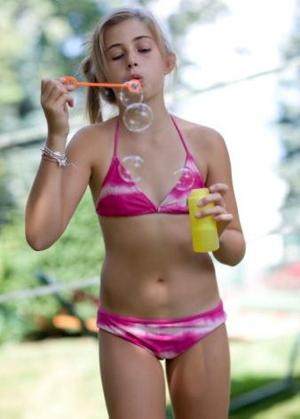person: (26, 6, 247, 416)
